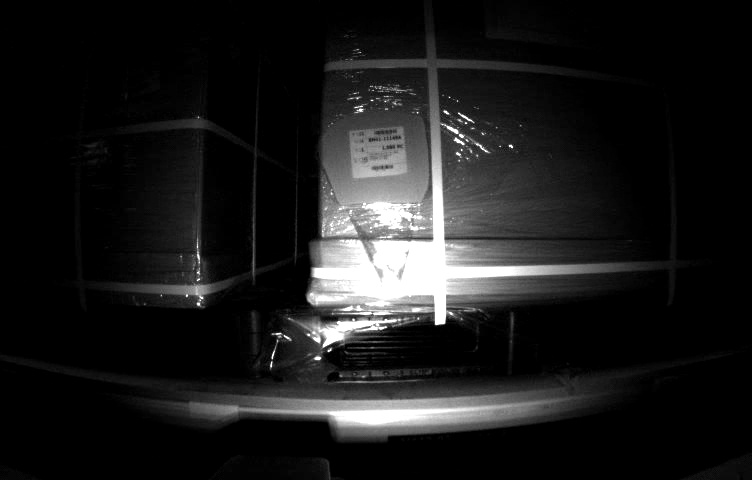True Barcode: (349, 127, 407, 173)
